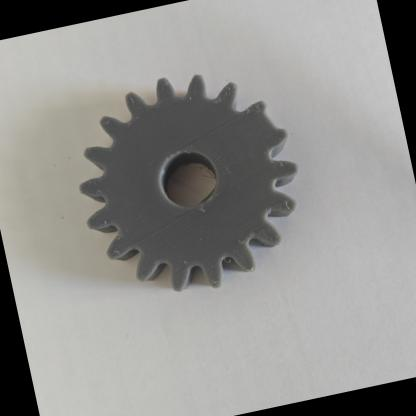defect: (218, 84, 298, 178)
gear: (36, 32, 340, 342)
